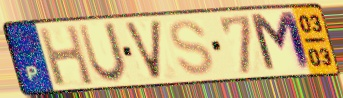7: (216, 13, 255, 76)
H: (36, 22, 97, 88)
M: (247, 9, 316, 76)
S: (166, 18, 216, 78)
U: (75, 20, 131, 86)
V: (121, 18, 164, 82)
